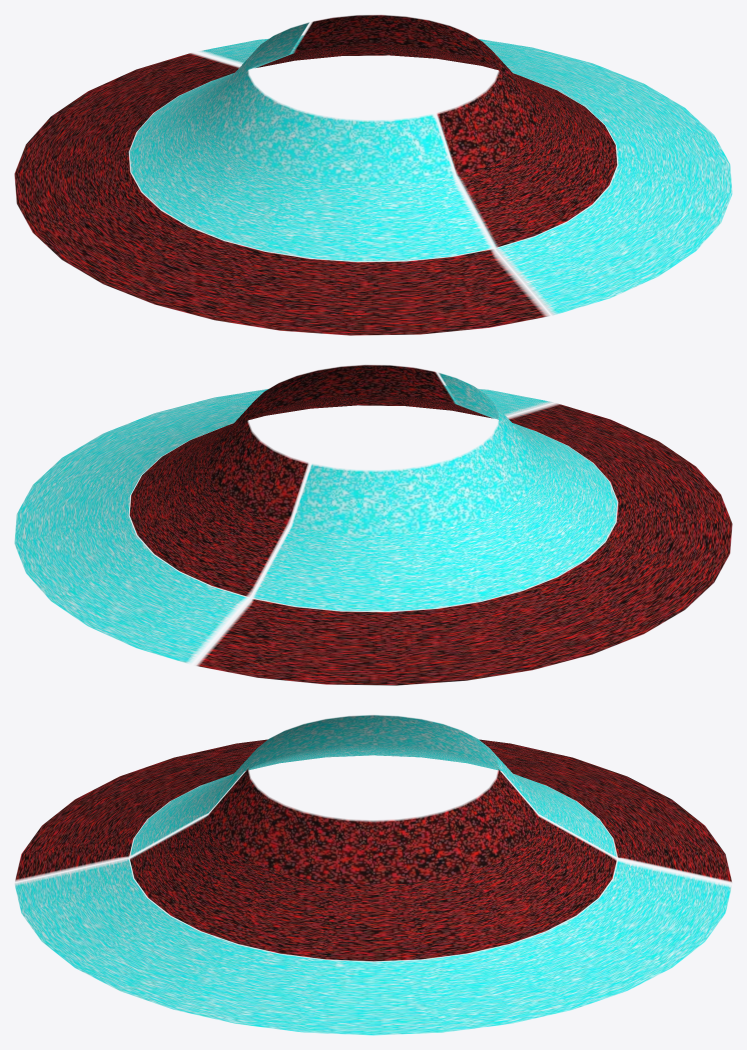
The picture shows the model from 3 angles, top to bottom: view 1: azimuth 30°, elevation 25°; view 2: azimuth 150°, elevation 25°; view 3: azimuth 270°, elevation 25°; orthographic projection.
Parts seen in each view (by area): view 1: SM_VFX_Skirt_Round_192_LOD0; view 2: SM_VFX_Skirt_Round_192_LOD0; view 3: SM_VFX_Skirt_Round_192_LOD0.
Boxes of the visible parts, x1=… form: SM_VFX_Skirt_Round_192_LOD0: x1=14, y1=15, x2=732, y2=335; SM_VFX_Skirt_Round_192_LOD0: x1=14, y1=365, x2=732, y2=685; SM_VFX_Skirt_Round_192_LOD0: x1=15, y1=715, x2=731, y2=1035.
Size of the model in its own units: 2.88 by 0.5181 by 2.88.
1 material, 1 textured.
